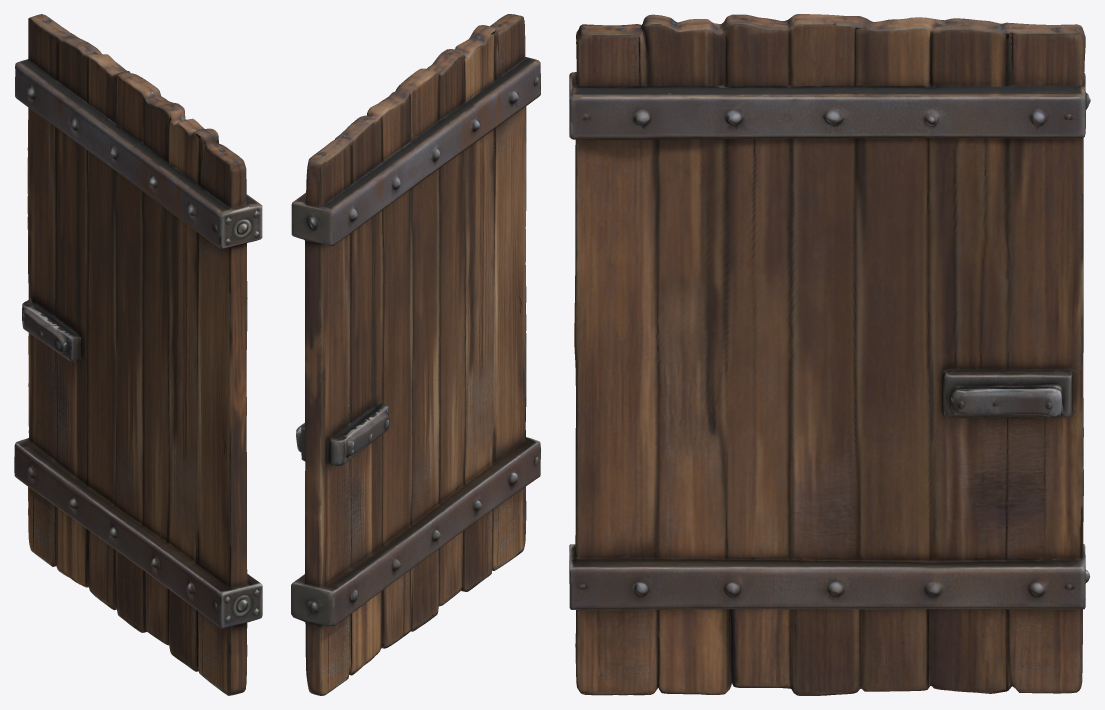
Rendered from Wooden_Door_0311191301_texture.glb.
3 renders of one model, left to right at view 1: azimuth 30°, elevation 25°; view 2: azimuth 150°, elevation 25°; view 3: azimuth 270°, elevation 25°, orthographic. The views are drawn at different scales.
Visible parts, largest first — view 1: Mesh_0.002; view 2: Mesh_0.002; view 3: Mesh_0.002.
Part boxes in pixels (bbox=[...]): Mesh_0.002: bbox=[14, 14, 262, 695]; Mesh_0.002: bbox=[291, 14, 540, 695]; Mesh_0.002: bbox=[569, 14, 1090, 695].
Bounding box in the file's own units: 0.2157 × 2 × 1.4.
Materials: 1 (1 with a texture image).
